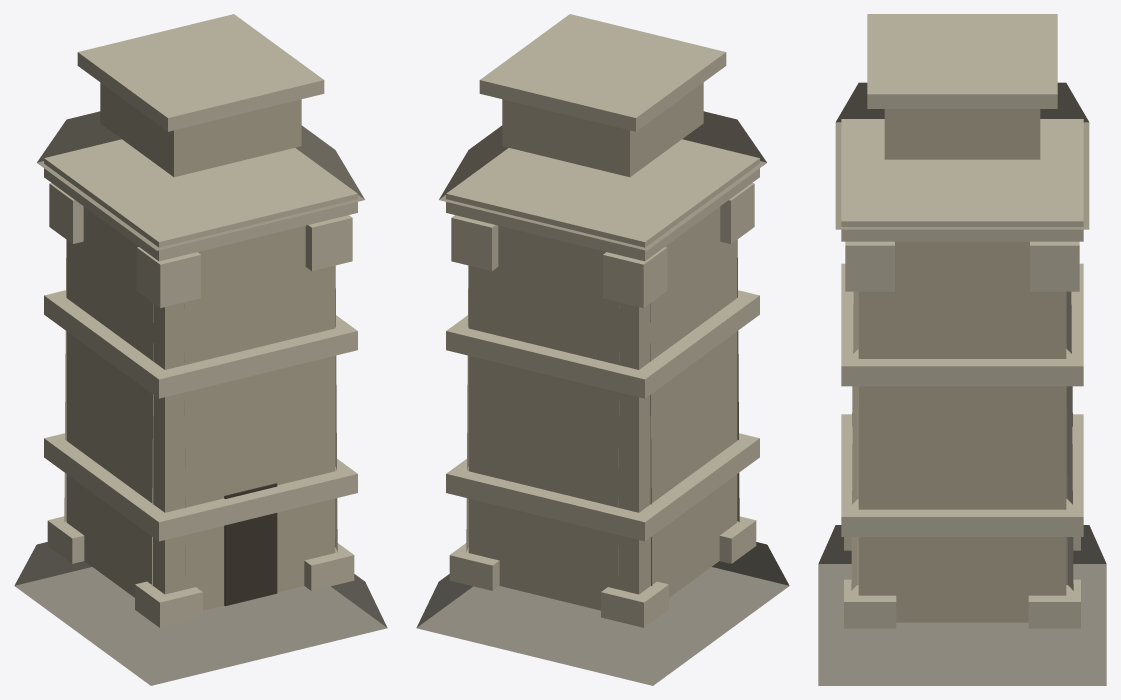
File: ruina_torre_lejos.glb
The picture shows the model from 3 angles, left to right: view 1: azimuth 30°, elevation 25°; view 2: azimuth 150°, elevation 25°; view 3: azimuth 270°, elevation 25°; orthographic projection. The views are drawn at different scales.
Parts seen in each view (by area): view 1: ruina_torre_lejos; view 2: ruina_torre_lejos; view 3: ruina_torre_lejos.
Boxes of the visible parts, x1=… form: ruina_torre_lejos: x1=14, y1=14, x2=387, y2=685; ruina_torre_lejos: x1=416, y1=14, x2=789, y2=685; ruina_torre_lejos: x1=818, y1=14, x2=1106, y2=685.
Size of the model in its own units: 6.46 by 14.11 by 6.46.
